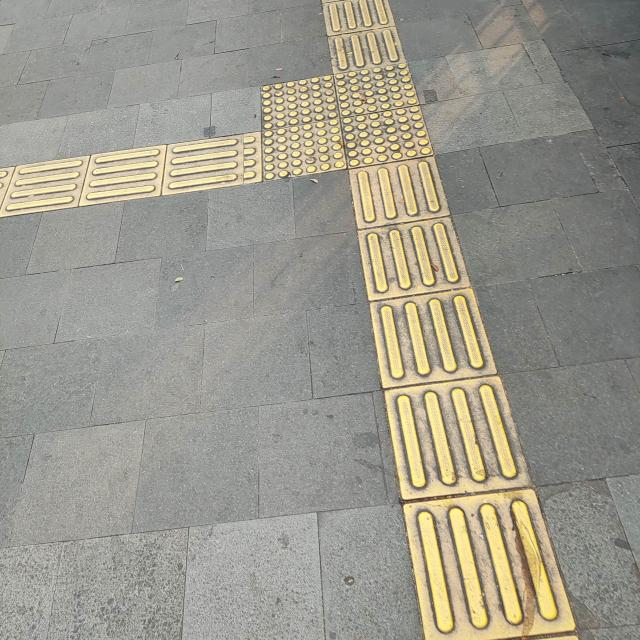lurus: (348, 179, 556, 640)
